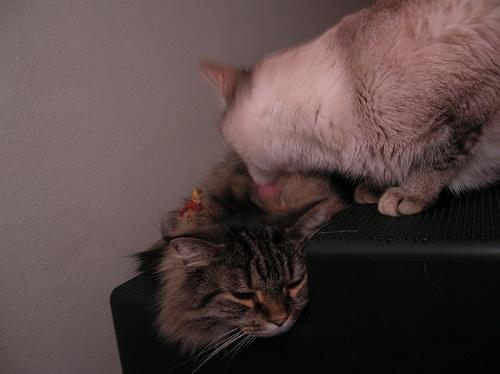tampered: (180, 189, 204, 227)
